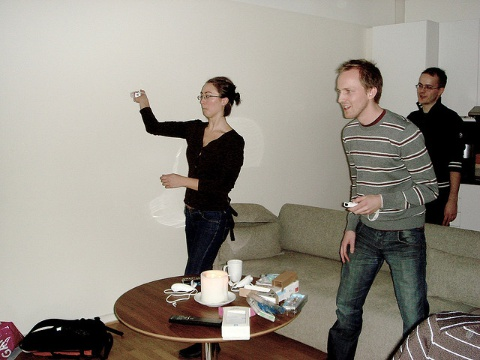hand: (338, 232, 356, 264), (160, 172, 183, 189), (443, 202, 458, 224)
